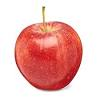apple: (12, 5, 84, 92)
